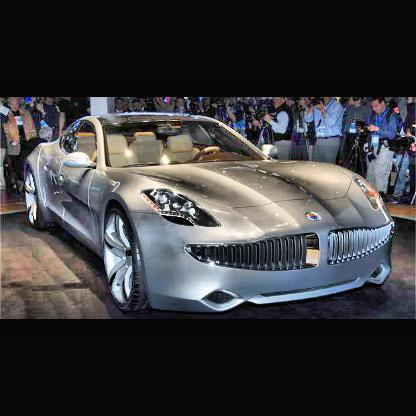Fisker Karma Sedan 2012: (24, 112, 399, 318)
